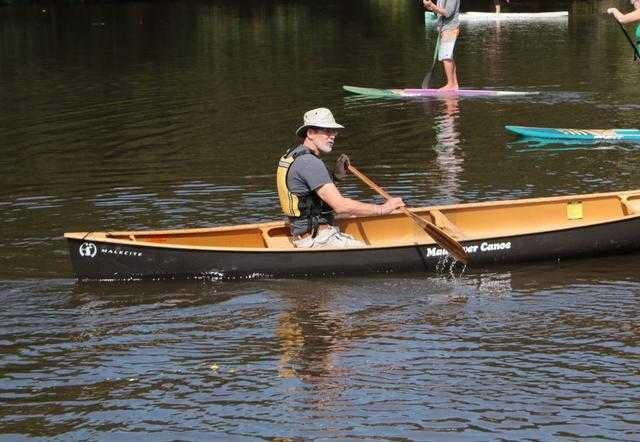kayak: (64, 189, 635, 281), (504, 125, 639, 146)
